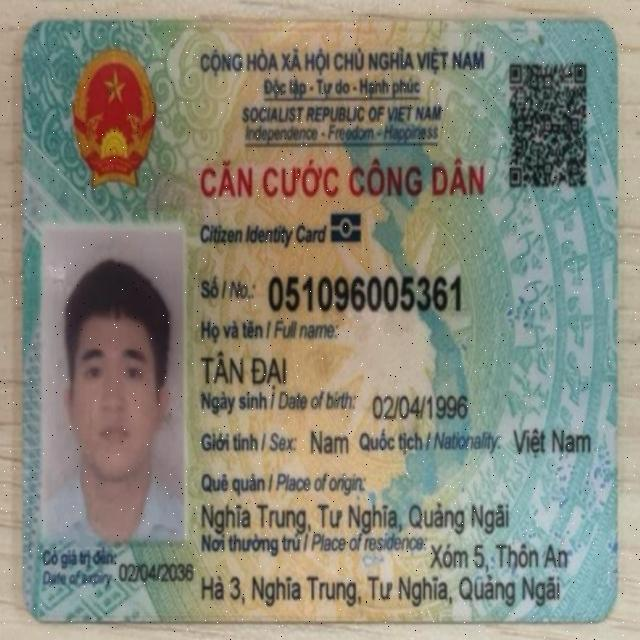current_place: (201, 567, 564, 608), (429, 533, 573, 573)
dob: (369, 388, 468, 424)
expire_date: (116, 557, 197, 587)
gender: (309, 428, 352, 459)
id: (268, 271, 464, 318)
name: (200, 346, 289, 392)
nationality: (510, 420, 595, 459)
origin_place: (200, 494, 514, 537)
